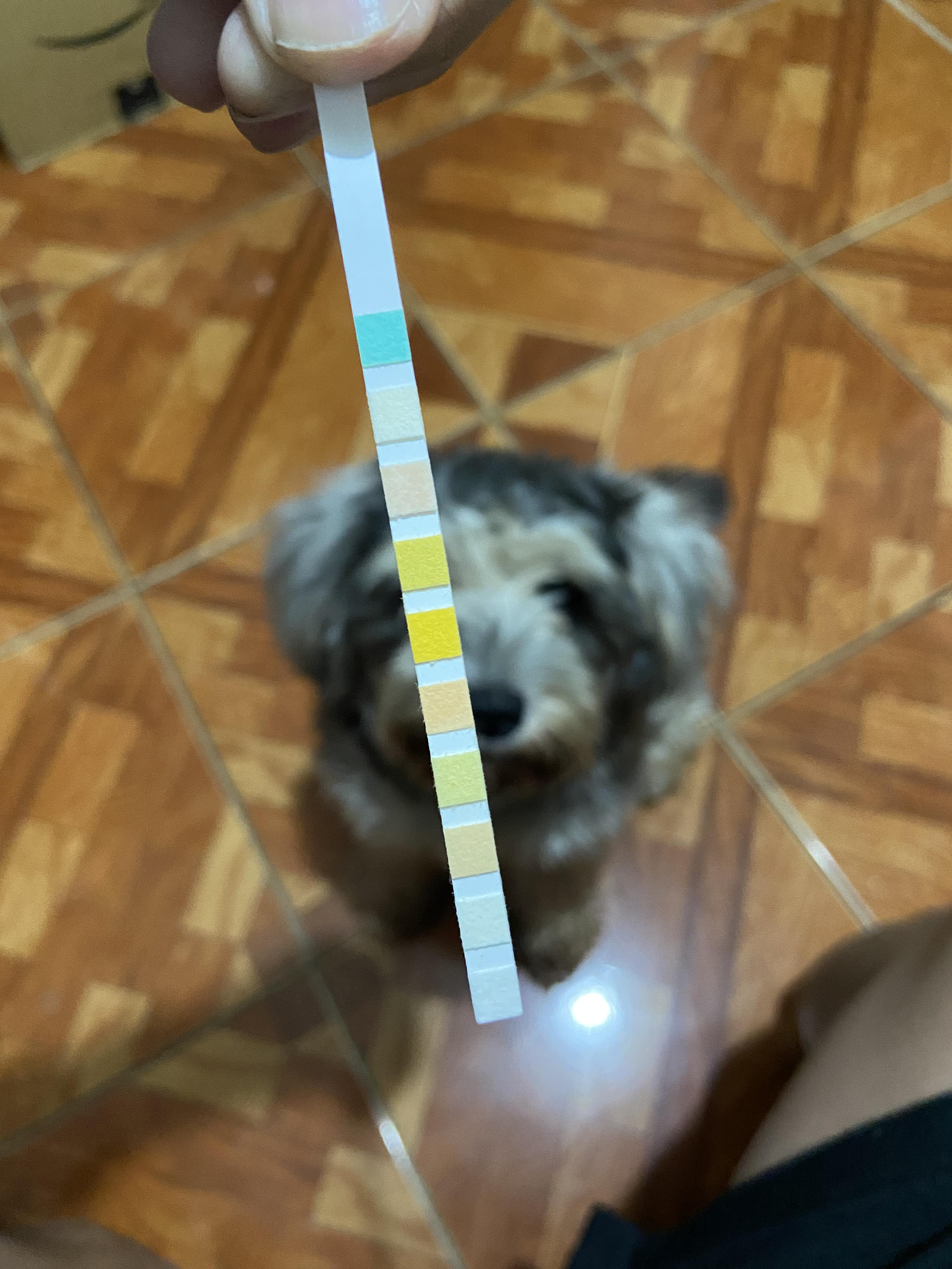Bilirubin: (378, 393, 417, 437)
Blood: (416, 615, 453, 656)
Glucose: (365, 318, 403, 362)
Ketone: (392, 470, 433, 513)
Leukocytes: (478, 973, 515, 1014)
Nitrite: (466, 903, 502, 942)
Protein: (440, 757, 478, 802)
SpGravity: (403, 542, 443, 585)
Urobilinogen: (453, 830, 490, 871)
pH: (429, 690, 465, 728)
strip: (318, 98, 522, 1024)
